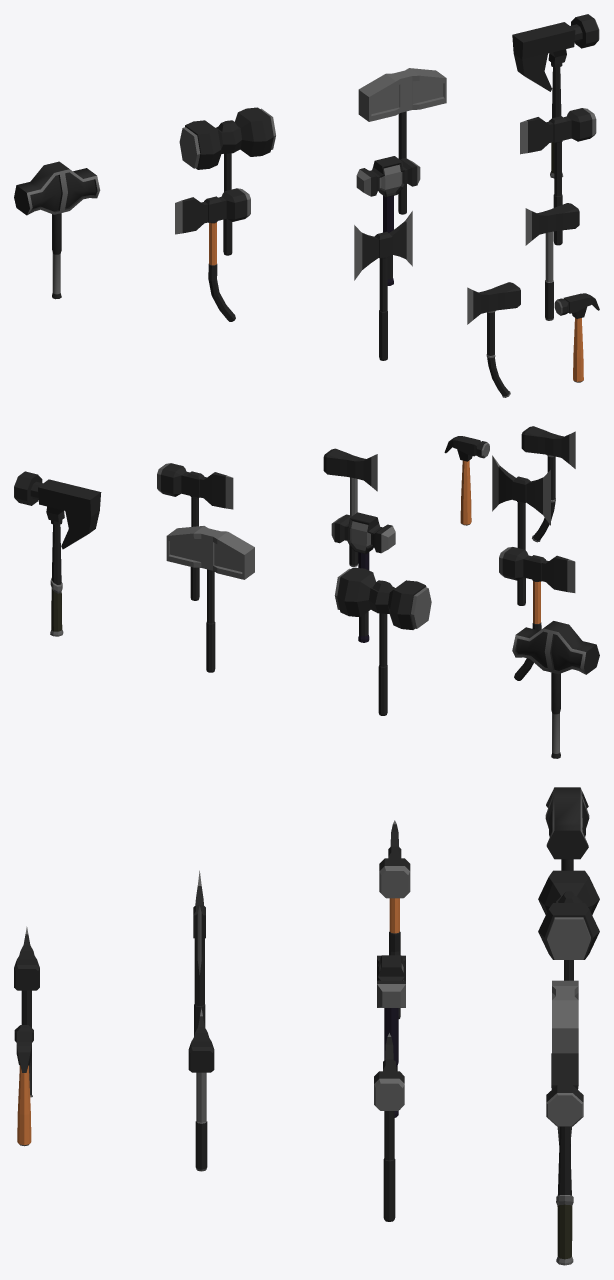
Rendered from HammerBundle.fbx.
The picture shows the model from 3 angles, top to bottom: view 1: azimuth 30°, elevation 25°; view 2: azimuth 150°, elevation 25°; view 3: azimuth 270°, elevation 25°; orthographic projection. The views are drawn at different scales.
Visible parts, largest first — view 1: Hammer10, Hammer11, Hammer3, Hammer4, Hammer9, Hammer8, Hammer7, Hammer2, Hammer5, Hammer6, Hammer1; view 2: Hammer10, Hammer3, Hammer11, Hammer4, Hammer9, Hammer8, Hammer7, Hammer2, Hammer6, Hammer5, Hammer1; view 3: Hammer10, Hammer3, Hammer4, Hammer8, Hammer5, Hammer9, Hammer2, Hammer11, Hammer1, Hammer7, Hammer6.
Part boxes in pixels (x1,y1,x2,y2): Hammer10: (179,107,275,255); Hammer11: (358,68,446,214); Hammer3: (512,14,599,178); Hammer4: (14,161,100,299); Hammer9: (175,188,250,321); Hammer8: (520,108,596,245); Hammer7: (354,211,412,360); Hammer2: (356,156,420,285); Hammer5: (525,203,579,320); Hammer6: (467,282,520,397); Hammer1: (554,293,599,382); Hammer10: (334,567,431,715); Hammer3: (14,471,101,636); Hammer11: (166,526,254,672); Hammer4: (512,621,599,758); Hammer9: (499,547,575,680); Hammer8: (157,463,233,600); Hammer7: (492,455,550,605); Hammer2: (331,512,395,642); Hammer6: (521,426,575,542); Hammer5: (323,448,377,566); Hammer1: (444,436,489,525); Hammer10: (538,870,599,980); Hammer3: (546,1053,583,1265); Hammer4: (545,787,589,870); Hammer8: (374,1033,404,1221); Hammer5: (188,1008,214,1171); Hammer9: (379,820,410,1018); Hammer2: (377,955,405,1117); Hammer11: (552,980,578,1158); Hammer1: (14,1025,33,1146); Hammer7: (193,870,205,1035); Hammer6: (14,926,39,1097).
Size of the model in its own units: 3700 by 941 by 2620.
2 materials, 2 textured.
